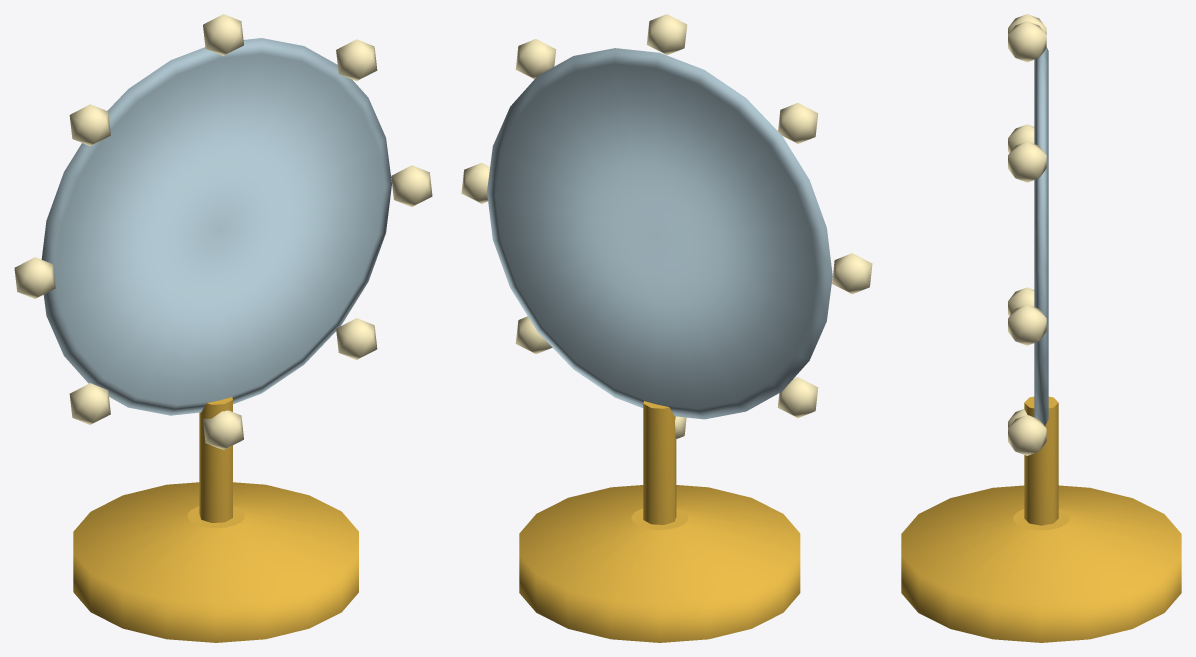
Rendered from furn_mirror_lamp.glb.
3 views of the same model, side by side, from view 1: azimuth 30°, elevation 25°; view 2: azimuth 150°, elevation 25°; view 3: azimuth 270°, elevation 25° (orthographic).
Visible parts, largest first — view 1: furn_mirror_lamp_gloss, furn_mirror_lamp_main, furn_mirror_lamp_glow; view 2: furn_mirror_lamp_gloss, furn_mirror_lamp_main, furn_mirror_lamp_glow; view 3: furn_mirror_lamp_main, furn_mirror_lamp_glow, furn_mirror_lamp_gloss.
Boxes of the visible parts, x1,y1,x2,y2 form: furn_mirror_lamp_gloss: [41, 38, 391, 415]; furn_mirror_lamp_main: [73, 397, 358, 642]; furn_mirror_lamp_glow: [14, 14, 432, 449]; furn_mirror_lamp_gloss: [487, 48, 832, 419]; furn_mirror_lamp_main: [519, 401, 800, 642]; furn_mirror_lamp_glow: [461, 14, 872, 438]; furn_mirror_lamp_main: [901, 396, 1181, 642]; furn_mirror_lamp_glow: [1008, 14, 1046, 455]; furn_mirror_lamp_gloss: [1034, 47, 1048, 426].
Size of the model in its own units: 0.3286 by 0.436 by 0.197.
